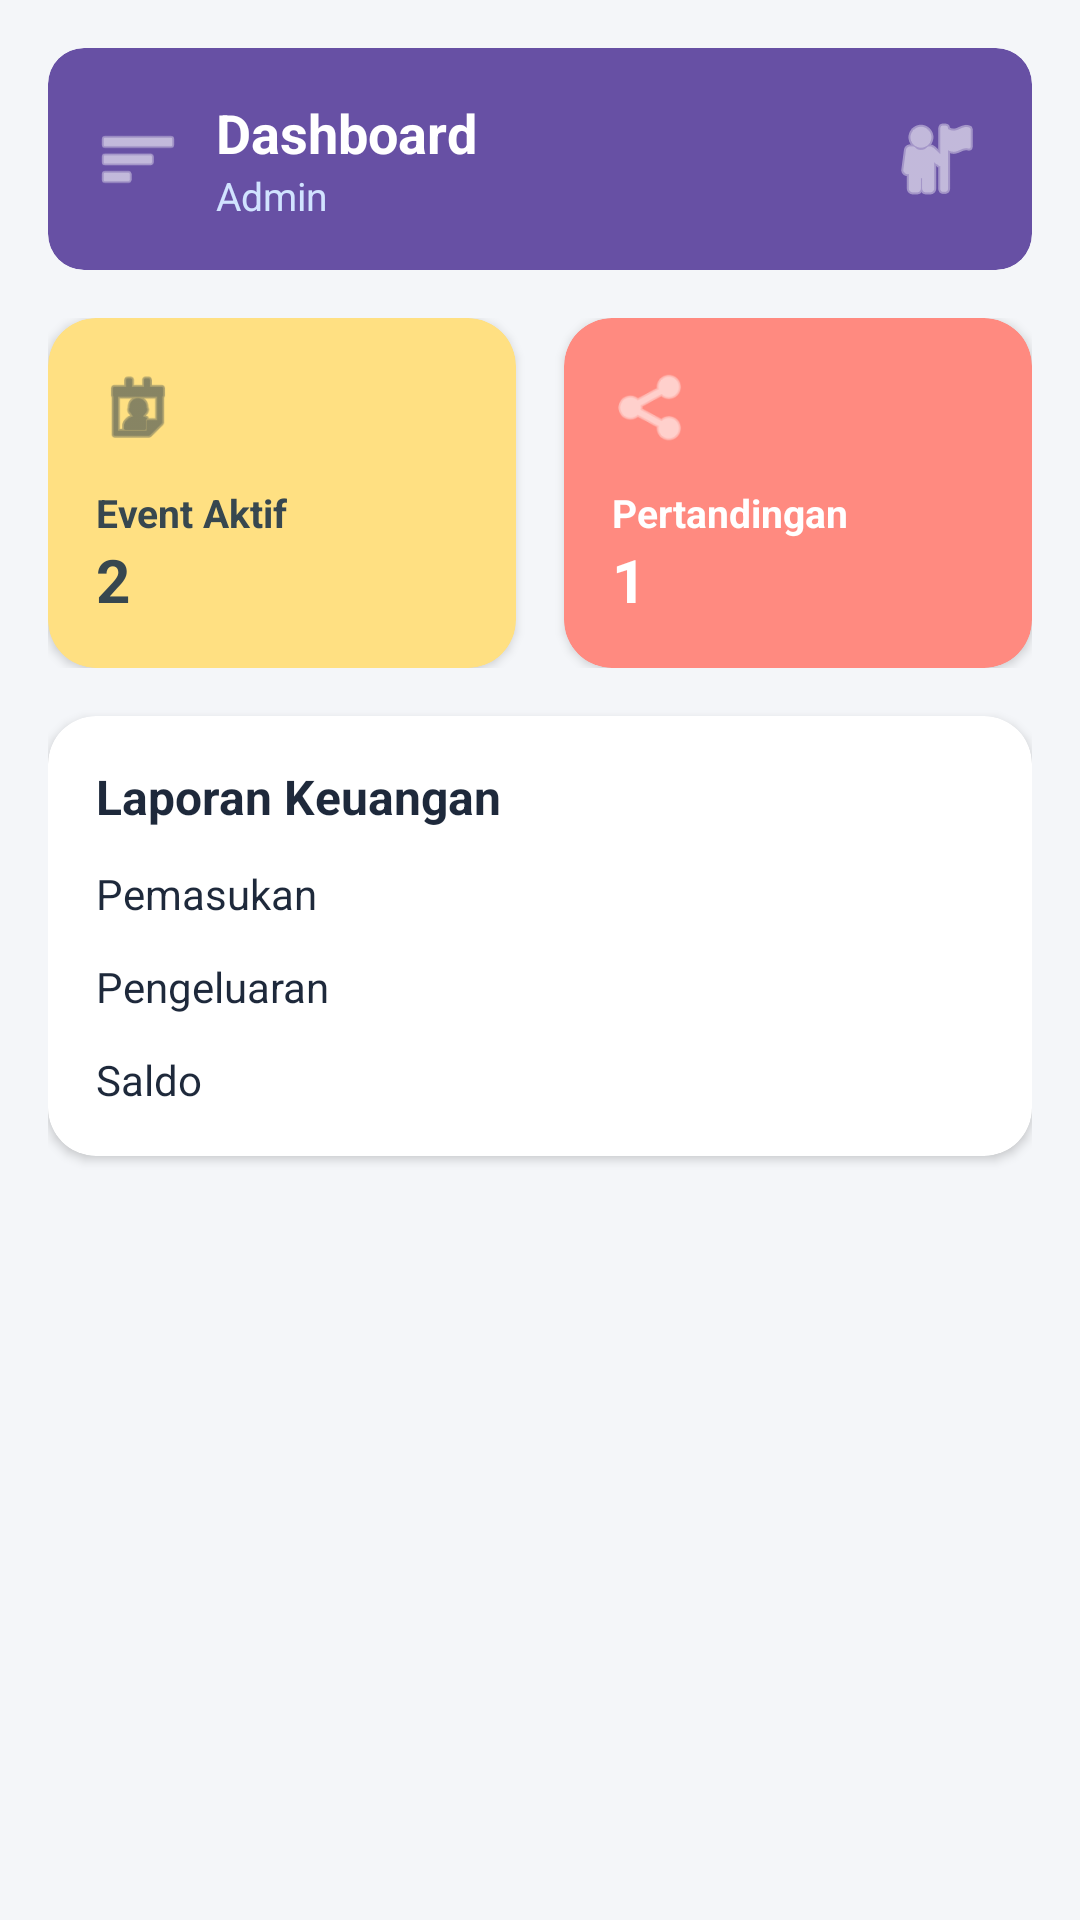

Where to tap for icons on this 1080×1920 app screen, as (x=x, y=y):
calendar: (x=138, y=407)
share: (x=649, y=407)
sort by size: (x=138, y=159)
